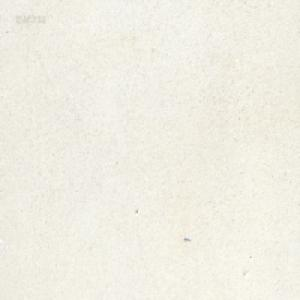Nail: (183, 236, 191, 241)
